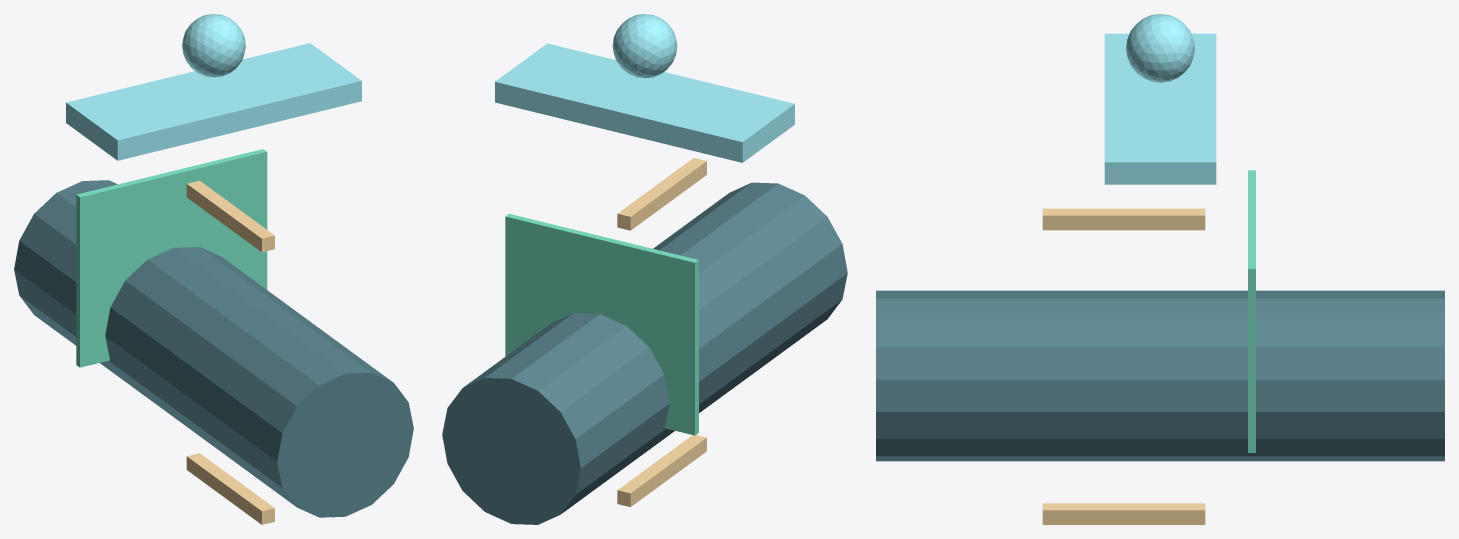
The model's file is vale-innovation-pylon-lod0.glb.
3 renders of one model, left to right at view 1: azimuth 30°, elevation 25°; view 2: azimuth 150°, elevation 25°; view 3: azimuth 270°, elevation 25°, orthographic. The views are drawn at different scales.
Visible parts, largest first — view 1: column, panel, cap, orb, band0.65, band2.25; view 2: column, panel, cap, orb, band2.25, band0.65; view 3: column, cap, band2.25, orb, band0.65, panel.
Part boxes in pixels (<box>): column: <box>14,180,413,517</box>; panel: <box>76,149,267,367</box>; cap: <box>66,43,361,160</box>; orb: <box>182,14,245,77</box>; band0.65: <box>186,453,274,524</box>; band2.25: <box>186,180,274,252</box>; column: <box>442,182,847,524</box>; panel: <box>505,213,698,435</box>; cap: <box>495,43,794,162</box>; orb: <box>612,14,677,78</box>; band2.25: <box>617,158,706,230</box>; band0.65: <box>617,435,706,506</box>; column: <box>876,290,1444,461</box>; cap: <box>1104,33,1216,184</box>; band2.25: <box>1042,208,1205,230</box>; orb: <box>1126,14,1194,82</box>; band0.65: <box>1042,503,1205,524</box>; panel: <box>1248,170,1255,452</box>.
Bounding box in the file's own units: 1.5 × 2.74 × 2.8.
